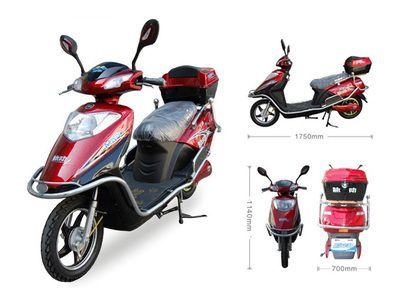non-vehicle: (28, 15, 221, 283), (248, 42, 377, 126), (257, 164, 311, 274)
